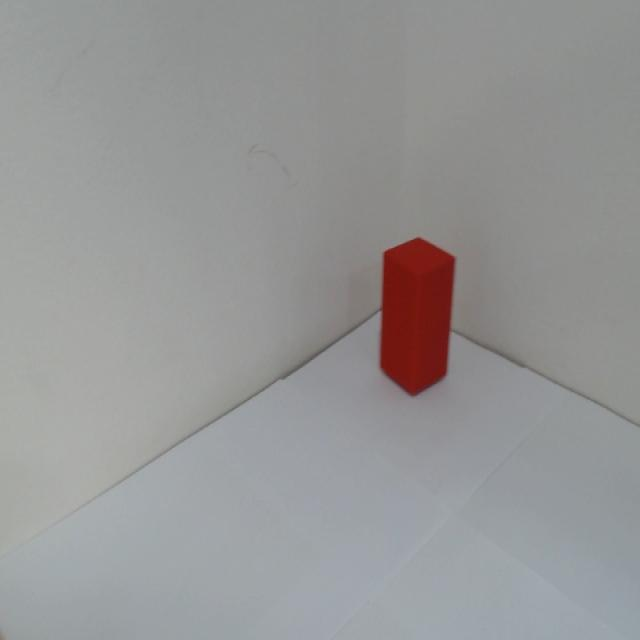cube: (372, 232, 459, 403)
